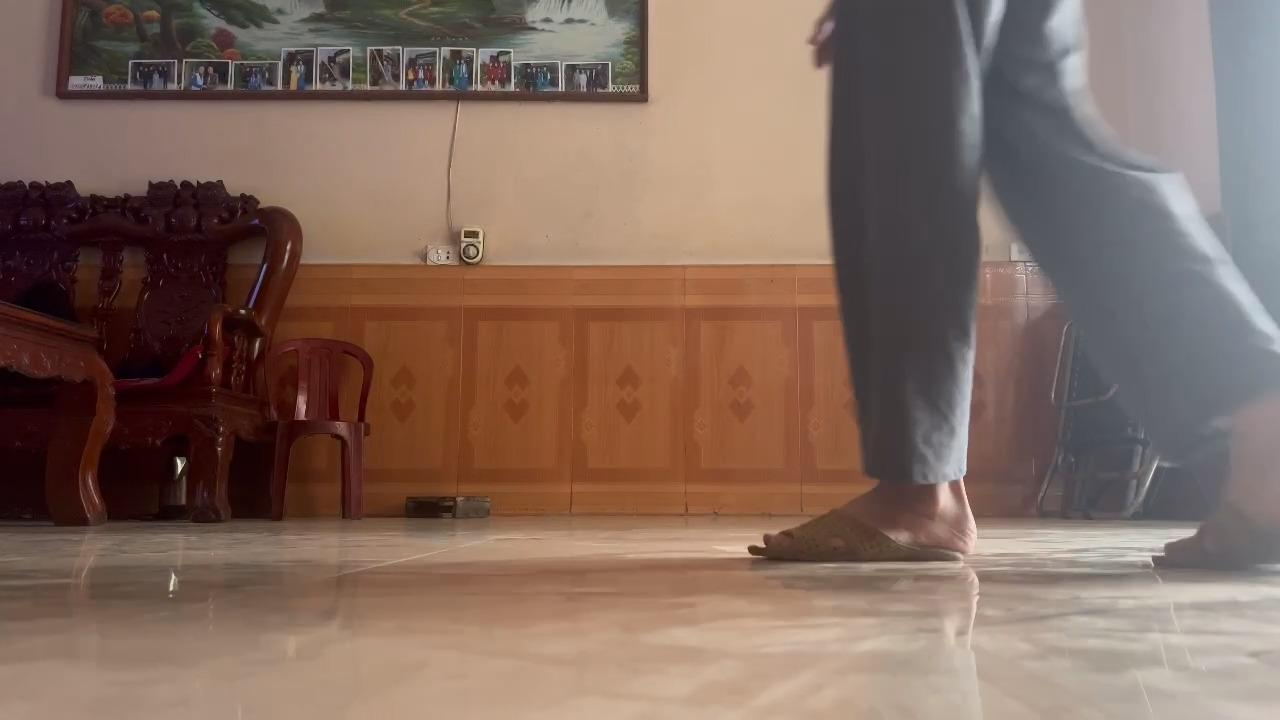no-boot: (1137, 393, 1279, 578), (740, 490, 983, 572)
